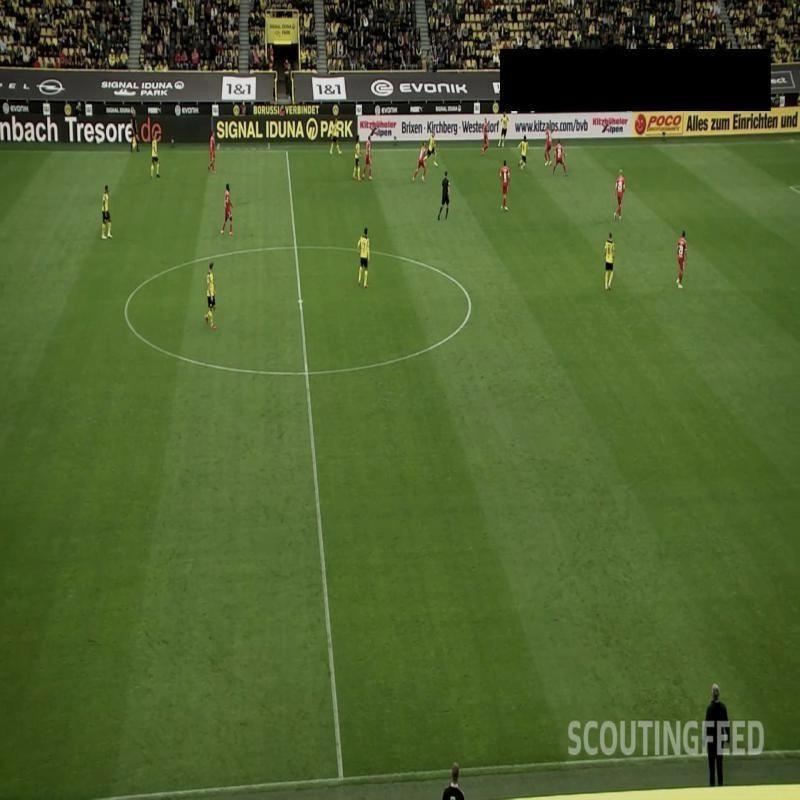13: (282, 143, 295, 158)
14: (287, 240, 302, 254)
15: (300, 364, 316, 382)
16: (326, 761, 356, 792)
9: (786, 179, 800, 193)
c: (116, 300, 134, 320), (463, 292, 477, 306)
